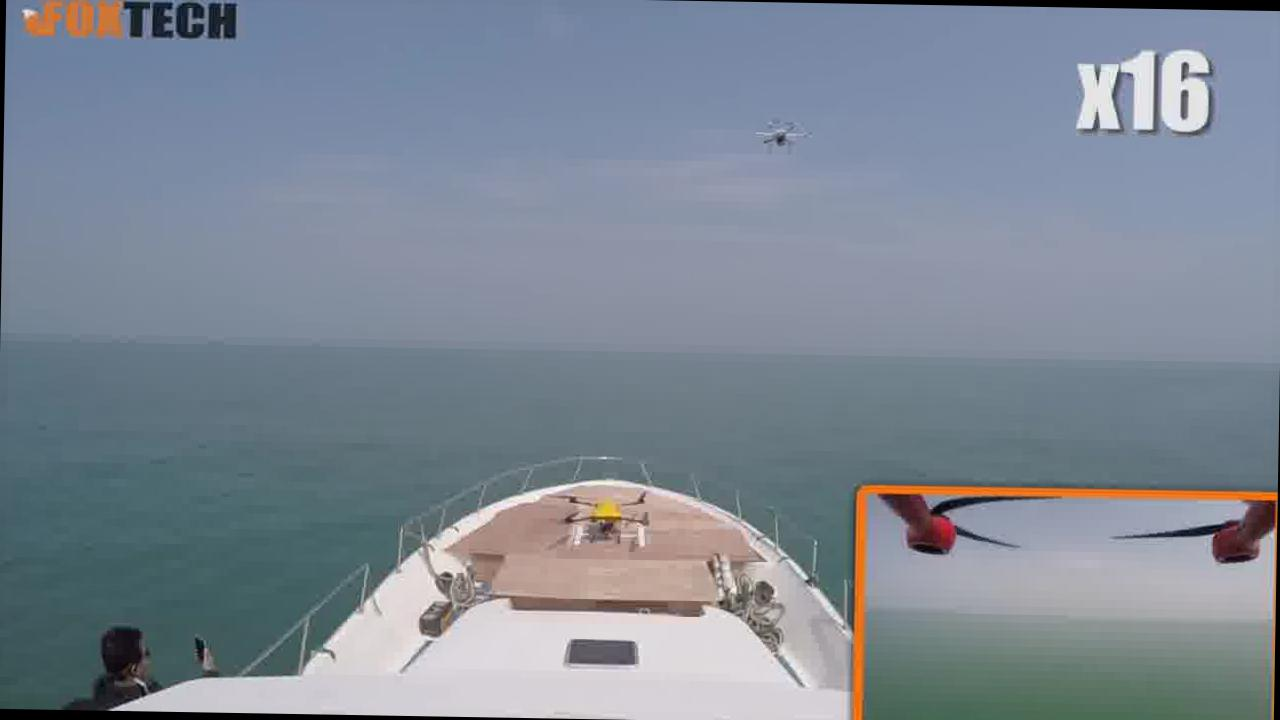drone: (535, 476, 679, 544), (738, 97, 818, 155)
